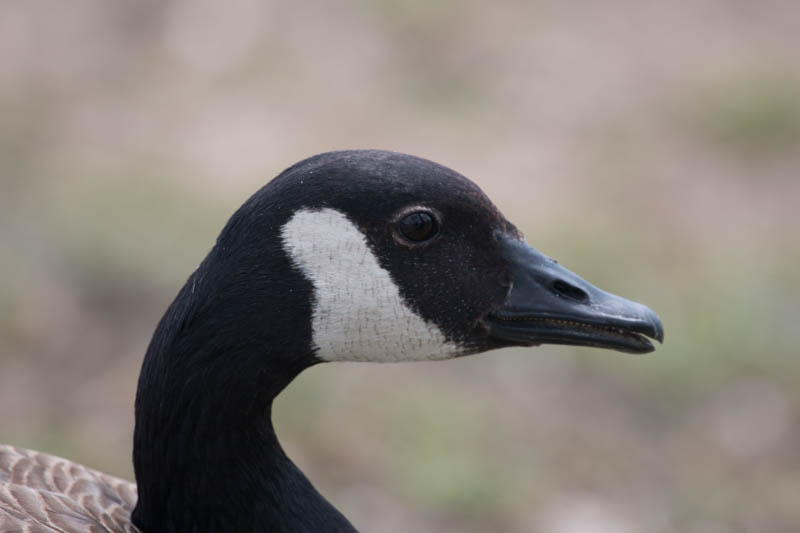goose-head: (226, 150, 664, 364)
